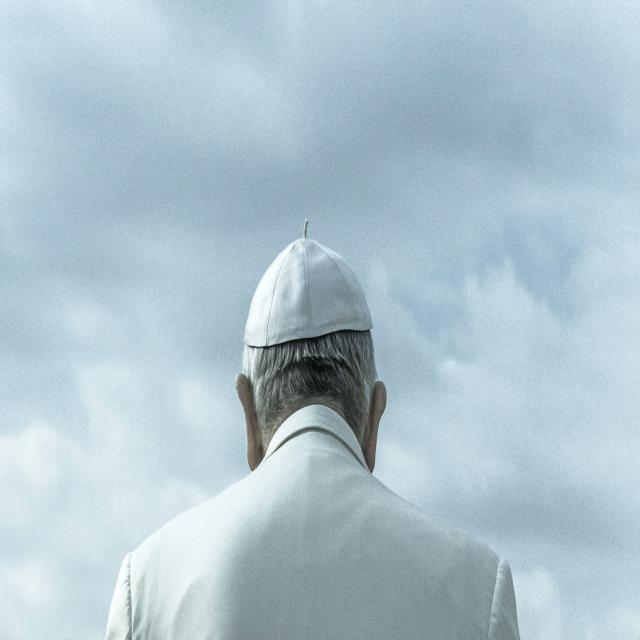adult: (105, 234, 522, 640)
